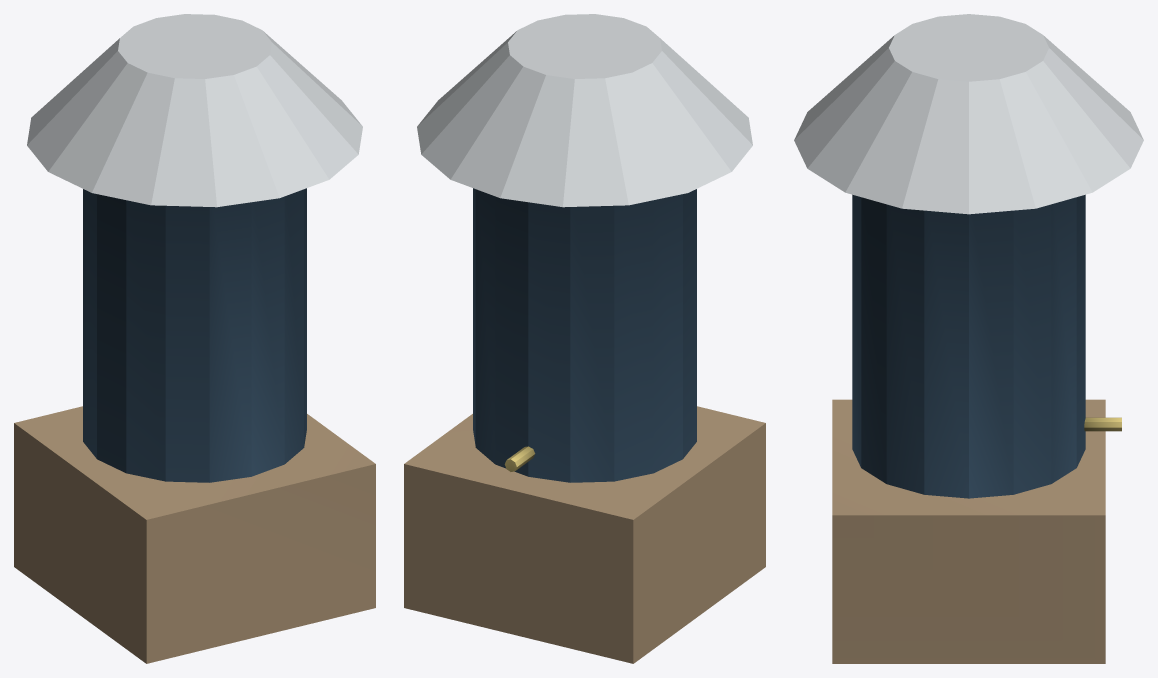
File: Base_WaterCollector.fbx
3 renders of one model, left to right at view 1: azimuth 30°, elevation 25°; view 2: azimuth 150°, elevation 25°; view 3: azimuth 270°, elevation 25°, orthographic. The views are drawn at different scales.
Visible parts, largest first — view 1: Base_WaterCollector; view 2: Base_WaterCollector; view 3: Base_WaterCollector.
Boxes of the visible parts, box(x1,y1,x2,y2) form: Base_WaterCollector: box(14, 14, 375, 663); Base_WaterCollector: box(404, 14, 765, 663); Base_WaterCollector: box(794, 14, 1143, 663).
Size of the model in its own units: 0.96 by 1.69 by 0.96.
